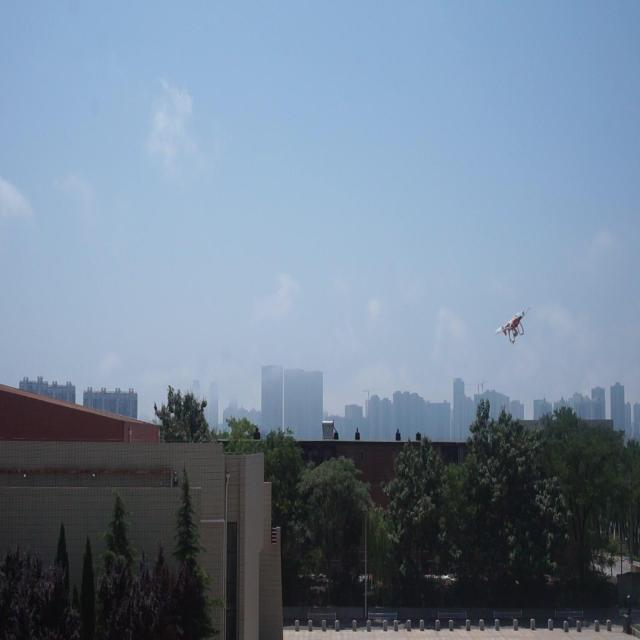drone: (492, 301, 533, 346)
